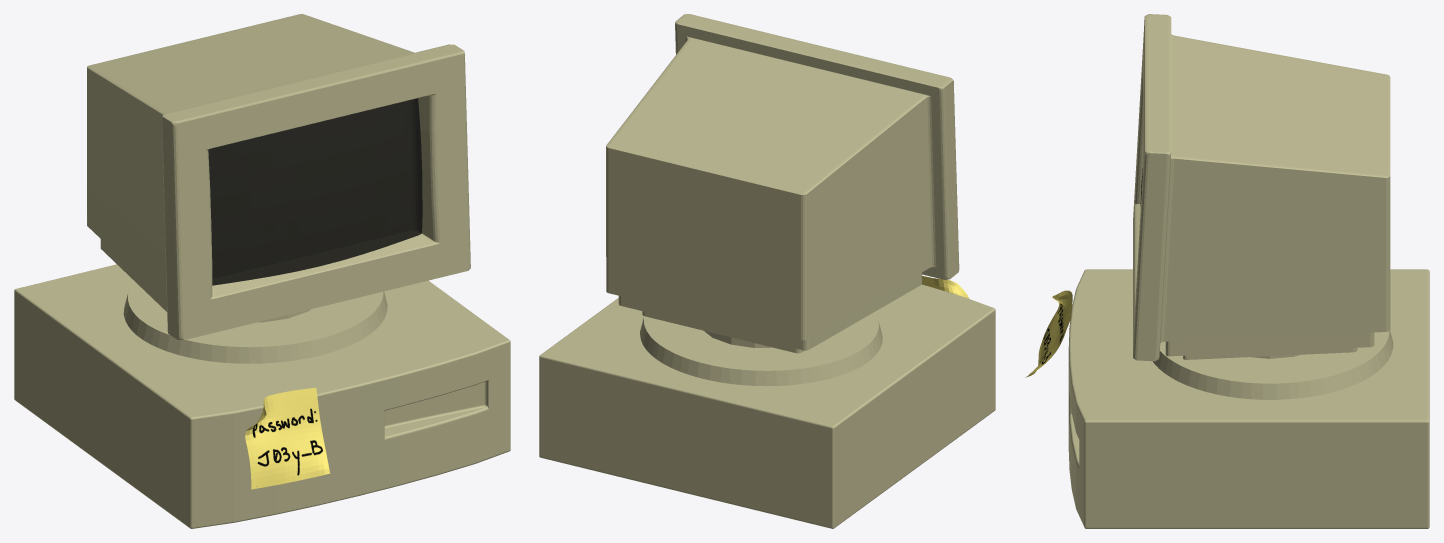
3 views of the same model, side by side, from view 1: azimuth 30°, elevation 25°; view 2: azimuth 150°, elevation 25°; view 3: azimuth 270°, elevation 25° (orthographic). The views are drawn at different scales.
Visible parts, largest first — view 1: Cube, Cube.001, Cube.002, Plane; view 2: Cube, Cube.001; view 3: Cube, Cube.001, Plane.
Part boxes in pixels (x1,y1,x2,y2): Cube: (87,14,470,363); Cube.001: (14,264,510,528); Cube.002: (208,98,422,285); Plane: (245,387,329,489); Cube: (606,14,959,386); Cube.001: (539,284,995,528); Cube: (1133,14,1393,399); Cube.001: (1068,269,1429,528); Plane: (1025,290,1072,377).
Size of the model in its own units: 1.64 by 1.86 by 1.85.
Materials: 3 (1 with a texture image).
